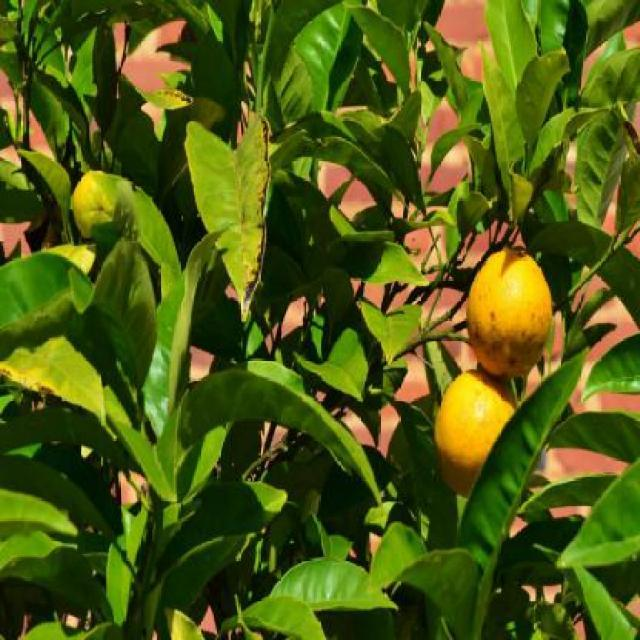Orange: (470, 252, 559, 370), (436, 360, 514, 483)
